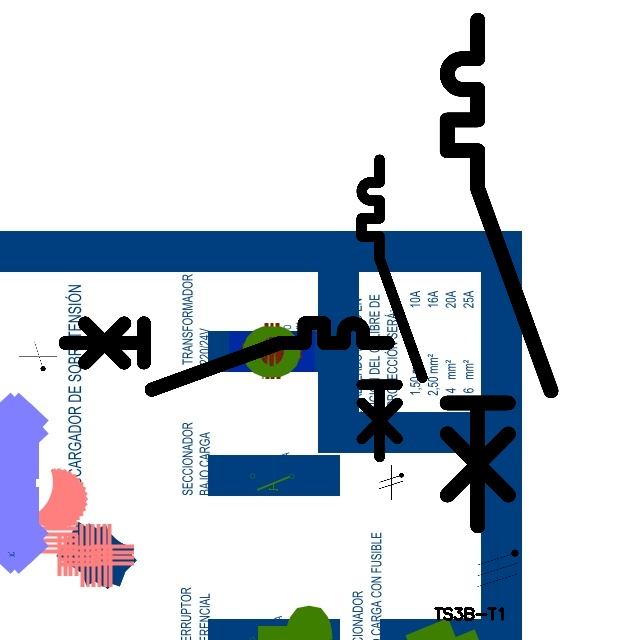interruptor_termomagnetico: (434, 7, 564, 538), (57, 315, 396, 398), (354, 152, 430, 464)
